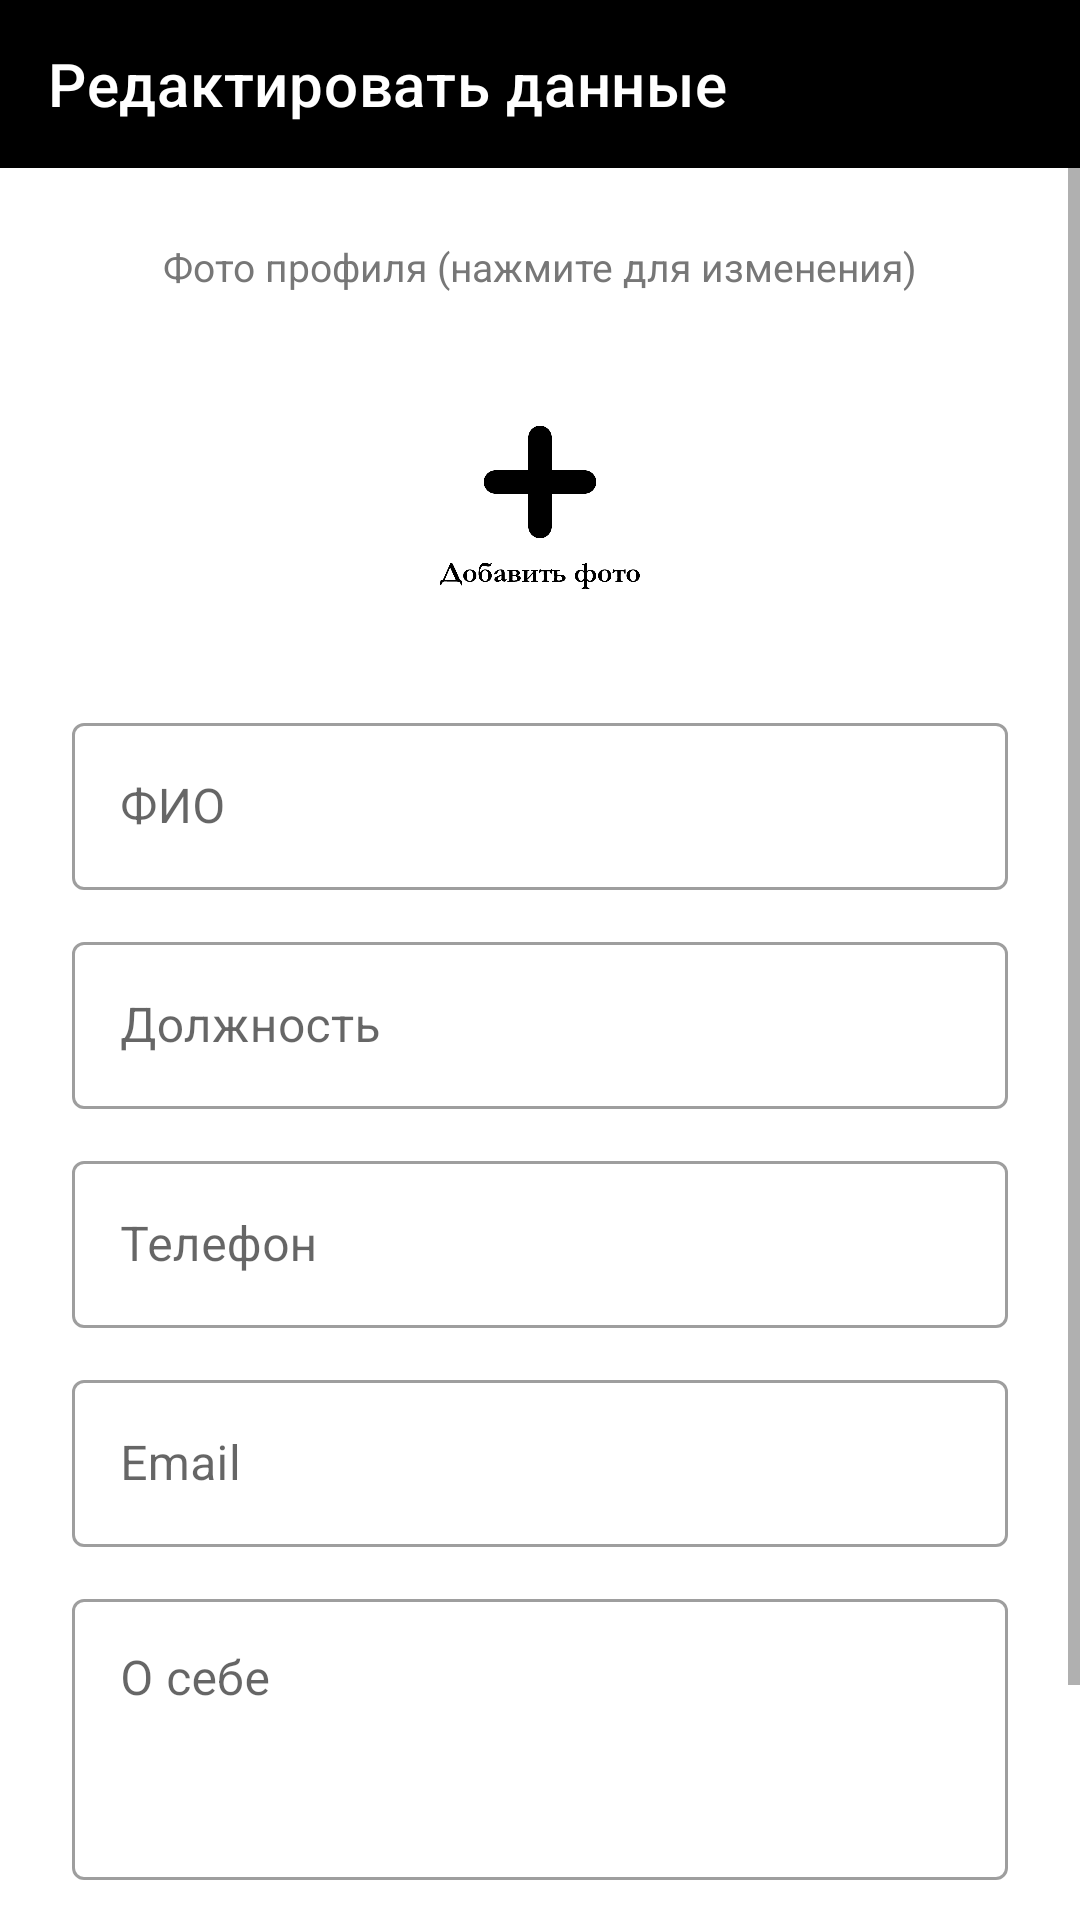

Where icons sit on this 1080px x 1920px app screen, as (x1, y1, x2, y2):
Edit Profile Photo: (440, 426, 640, 589)
